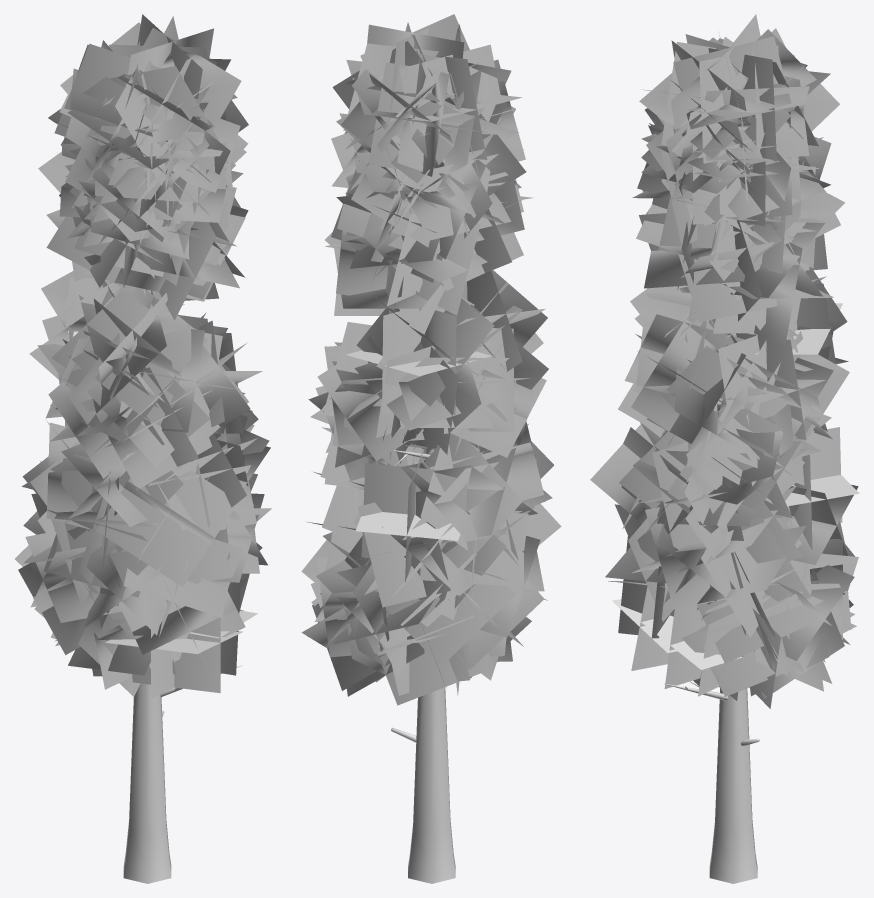
The model's file is STColumnar2.glb.
The picture shows the model from 3 angles, left to right: view 1: azimuth 30°, elevation 25°; view 2: azimuth 150°, elevation 25°; view 3: azimuth 270°, elevation 25°; orthographic projection.
Visible parts, largest first — view 1: VertTree2Leaves; view 2: VertTree2Leaves; view 3: VertTree2Leaves.
Boxes of the visible parts, bbox=[...] form: VertTree2Leaves: bbox=[15, 14, 271, 883]; VertTree2Leaves: bbox=[301, 14, 561, 883]; VertTree2Leaves: bbox=[590, 14, 859, 883].
Size of the model in its own units: 4.01 by 14.29 by 4.14.
Materials: 2 (1 with a texture image).
